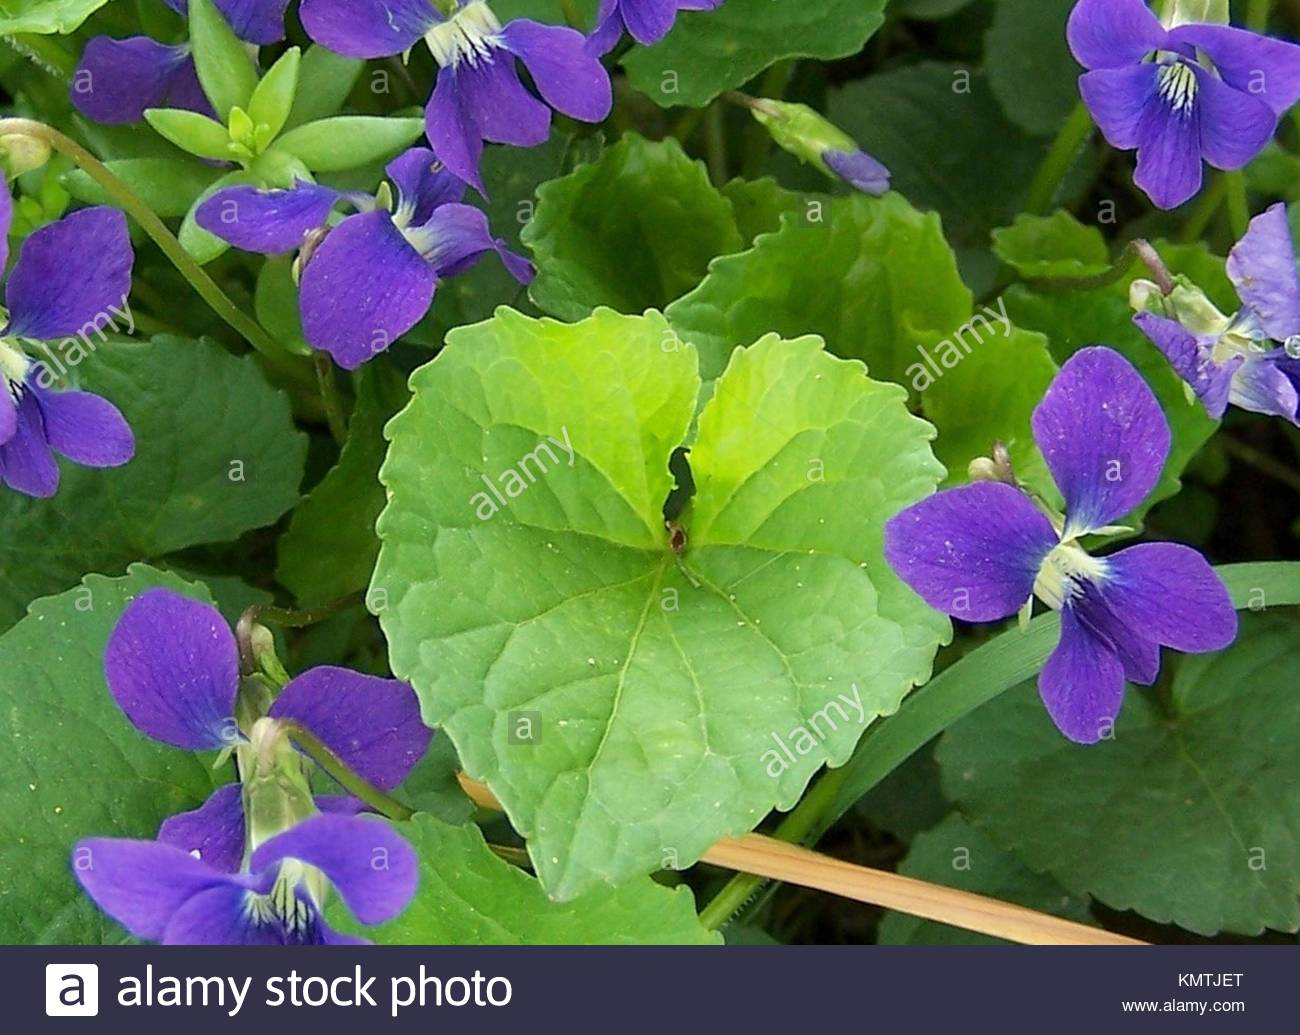violet: (98, 588, 485, 993), (864, 318, 1230, 742), (216, 154, 493, 355), (1057, 10, 1300, 231), (14, 192, 162, 537), (391, 16, 642, 170)
